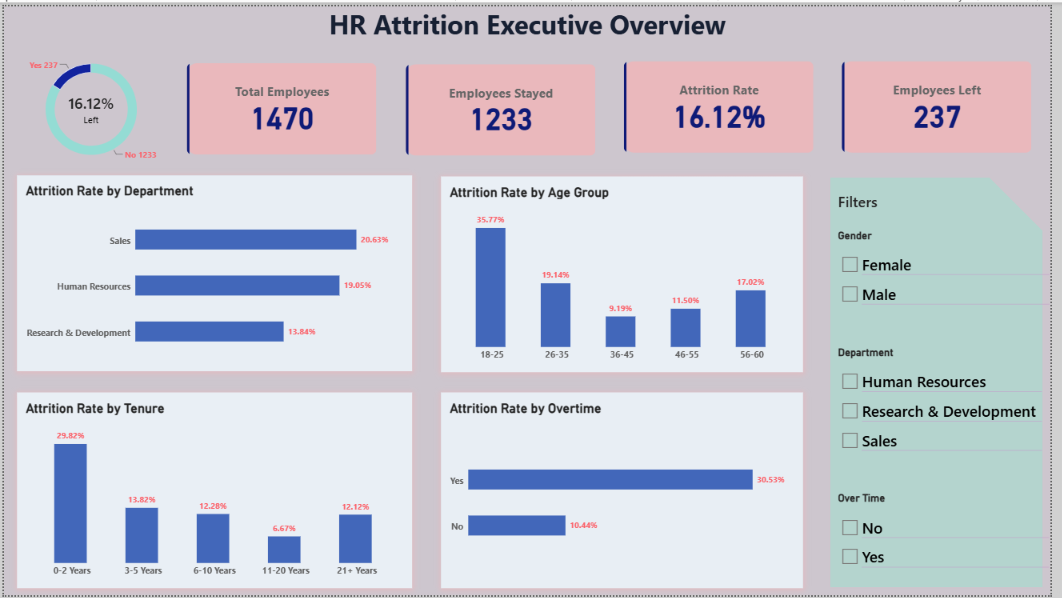

Layout of this report page (visuals, bound fields, positions):
{"tool":"powerbi","page":{"name":"HR Attrition Overview","canvas":[1920,1080],"ordinal":0},"visuals":[{"type":"shape","box":[1513.3,311.8,394.4,755.7],"z":0},{"type":"textbox","box":[0,0,1920,76],"z":1000},{"type":"cardVisual","fields":{"Data":["HR_Data.Total Employees"]},"box":[320,87.6,380,200],"z":2000},{"type":"clusteredBarChart","title":"Attrition Rate by Department","fields":{"Category":["HR_Data.Department"],"Y":["HR_Data.Attrition Rate"]},"box":[23.8,310,724.5,359.5],"z":3000},{"type":"clusteredBarChart","title":"Attrition Rate by Overtime","fields":{"Category":["HR_Data.OverTime"],"Y":["HR_Data.Attrition Rate"]},"box":[801.6,708,664,359.5],"z":4000},{"type":"clusteredColumnChart","title":"Attrition Rate by Age Group","fields":{"Y":["HR_Data.Attrition Rate"],"Category":["HR_Data.age_group"]},"box":[801.6,311.8,664,359.5],"z":5000},{"type":"clusteredColumnChart","title":"Attrition Rate by Tenure","fields":{"Y":["HR_Data.Attrition Rate"],"Category":["HR_Data.tenure_group"]},"box":[23.8,708,724.5,359.5],"z":6000},{"type":"cardVisual","fields":{"Data":["HR_Data.Employees Left"]},"box":[1521.3,84.5,380,200],"z":7000},{"type":"cardVisual","fields":{"Data":["HR_Data.Employees Stayed"]},"box":[720.4,89.6,380,200],"z":8000},{"type":"cardVisual","fields":{"Data":["HR_Data.Attrition Rate"]},"box":[1120.8,84.5,380,200],"z":9000},{"type":"slicer","title":"Gender","fields":{"Values":["HR_Data.Gender"]},"box":[1530,409.8,387.7,159.7],"z":10000,"group":"g2"},{"type":"group","id":"g1","title":"Group 1","box":[1530,624.5,374.2,213.3],"z":10000},{"type":"slicer","title":"Over Time","fields":{"Values":["HR_Data.OverTime"]},"box":[1530,892.1,387.4,159.2],"z":10000,"group":"g3"},{"type":"group","id":"g2","title":"Group 2","box":[1530,409.8,387.7,159.7],"z":11000},{"type":"group","id":"g3","title":"Group 2","box":[1530,892.1,387.4,159.2],"z":12000},{"type":"textbox","box":[1530,340,121.7,48.3],"z":13000},{"type":"slicer","title":"Department","fields":{"Values":["HR_Data.Department"]},"box":[1530,624.5,374.2,213.3],"z":13001,"group":"g1"},{"type":"donutChart","title":"Employee Attrition Split","fields":{"Category":["HR_Data.Attrition"],"Y":["CountNonNull(HR_Data.EmployeeNumber)"]},"box":[0,54,320,272],"z":14000}]}

Visuals, with their boxes in screenshot pixels (x1, y1, x2, y2), scaled from the page's 1920x1080 canvas onto the 1062x598 screenshot:
shape: 837/173/1055/591
textbox: 0/0/1061/42
cardVisual - HR_Data.Total Employees: 177/49/387/159
"Attrition Rate by Department" clusteredBarChart: 13/172/414/371
"Attrition Rate by Overtime" clusteredBarChart: 443/392/811/591
"Attrition Rate by Age Group" clusteredColumnChart: 443/173/811/372
"Attrition Rate by Tenure" clusteredColumnChart: 13/392/414/591
cardVisual - HR_Data.Employees Left: 841/47/1052/158
cardVisual - HR_Data.Employees Stayed: 398/50/609/160
cardVisual - HR_Data.Attrition Rate: 620/47/830/158
"Gender" slicer: 846/227/1061/315
"Group 1" group: 846/346/1053/464
"Over Time" slicer: 846/494/1061/582
"Group 2" group: 846/227/1061/315
"Group 2" group: 846/494/1061/582
textbox: 846/188/914/215
"Department" slicer: 846/346/1053/464
"Employee Attrition Split" donutChart: 0/30/177/181
